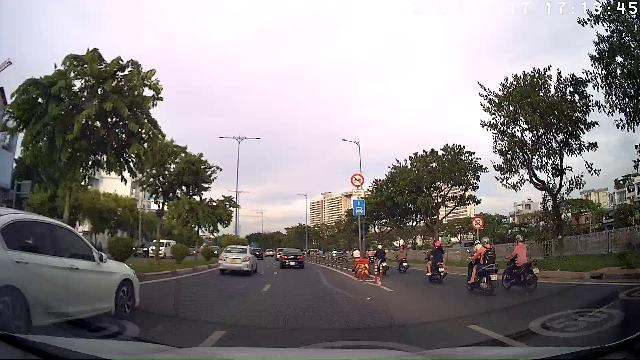103a-cam-oto: (471, 216, 484, 230)
